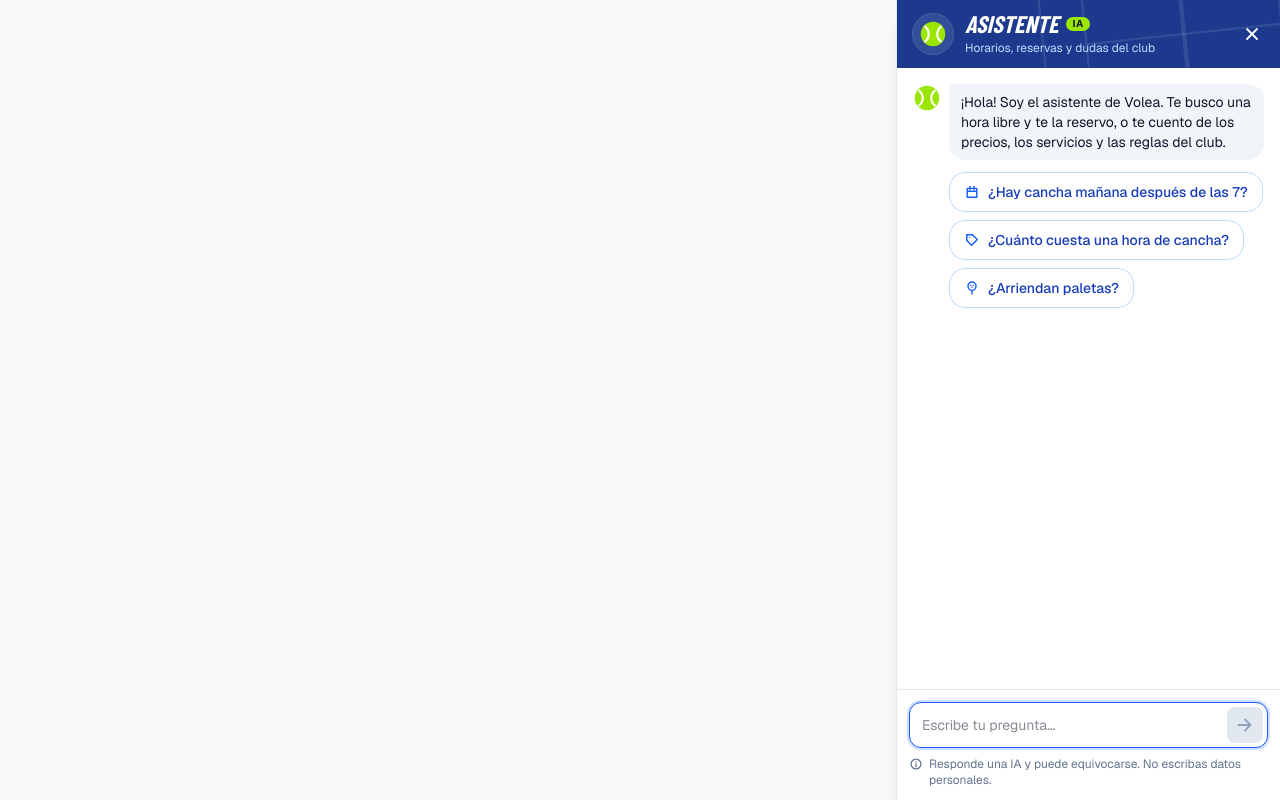
Asistente › manda la pregunta a la API y muestra la respuesta a medida que llega
This screenshot has width=1280, height=800.
Step 1. Type "¿A qué hora abren?" into the field labelled "Escribe tu pregunta" → (1070,725), box [922, 709, 1219, 741]
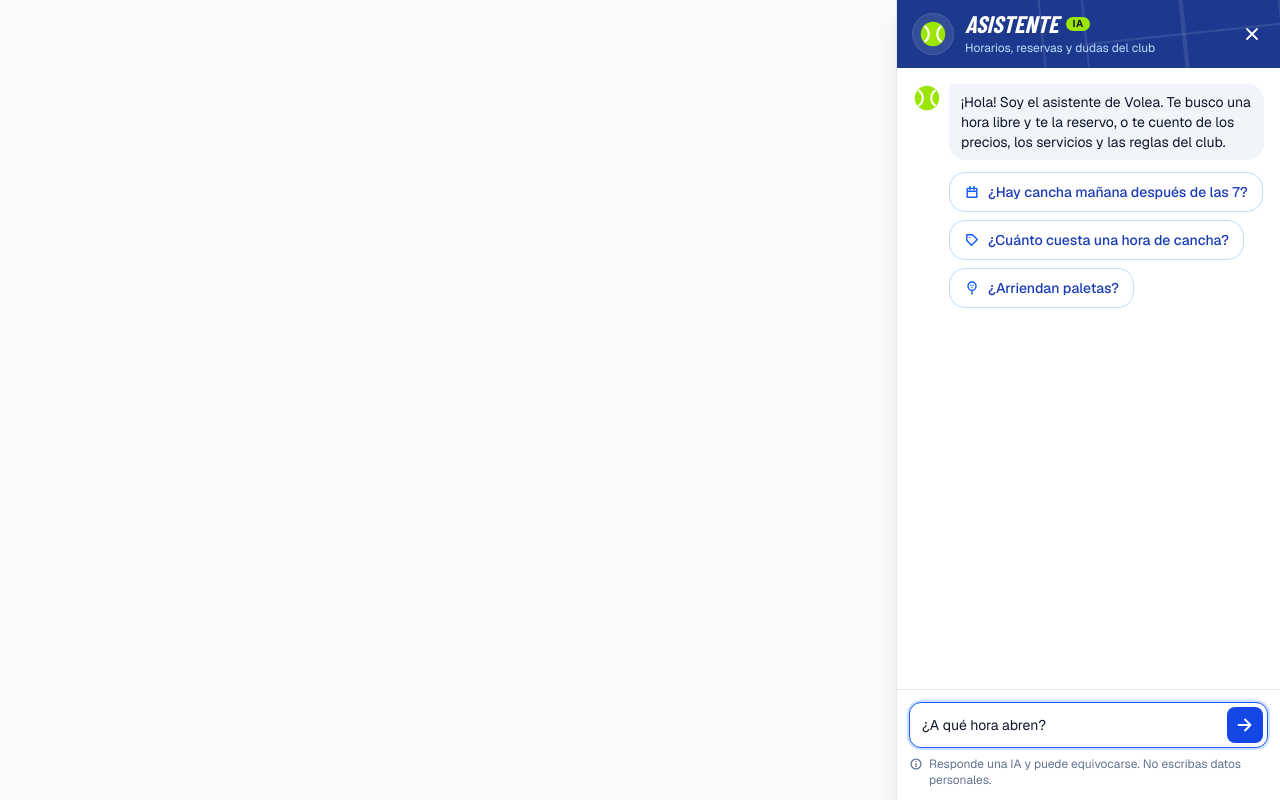
Step 2. Click the button named "Enviar" → (1245,725), box [1227, 707, 1263, 743]
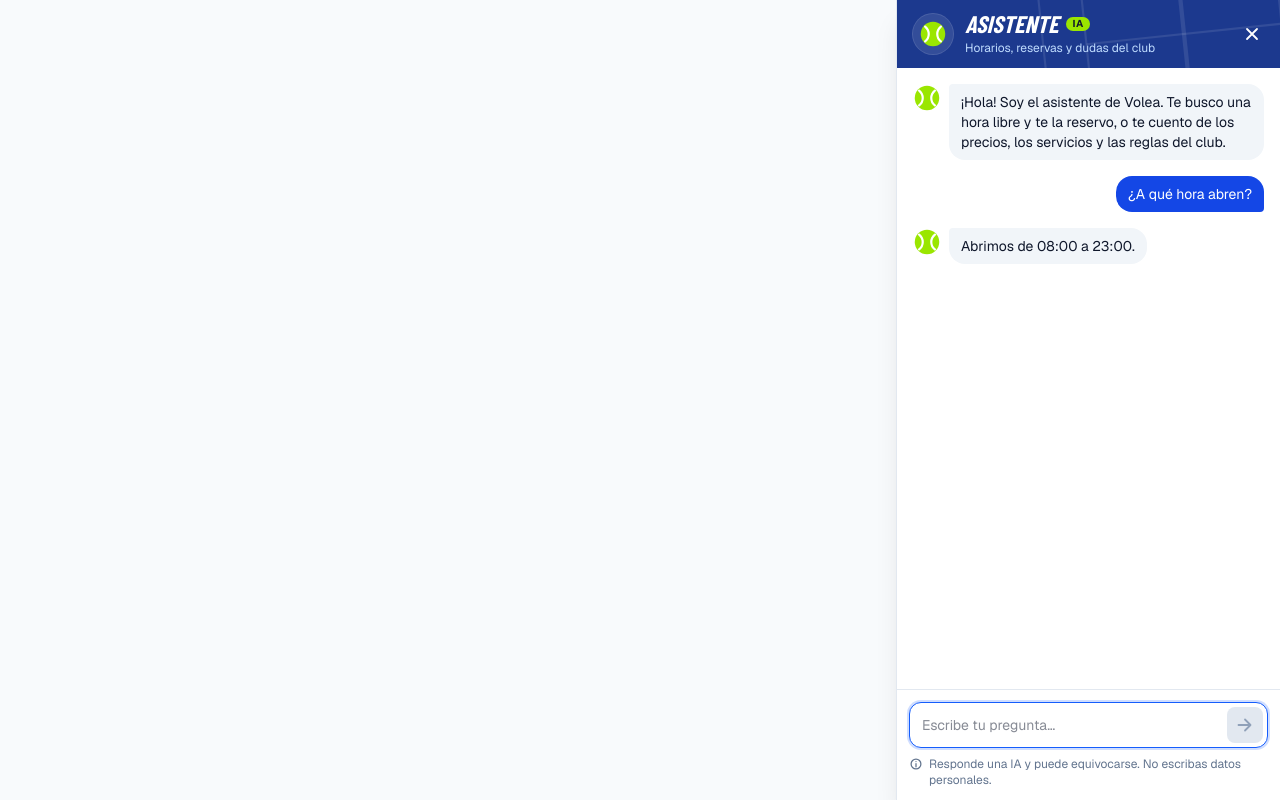
expect the text "Abrimos de 08:00 a 23:00." is shown: met, box [949, 228, 1147, 264]
expect the text "¿A qué hora abren?" is shown: met, box [1116, 176, 1264, 212]
expect the field labelled "Escribe tu pregunta" is empty: met, box [922, 709, 1219, 741]
